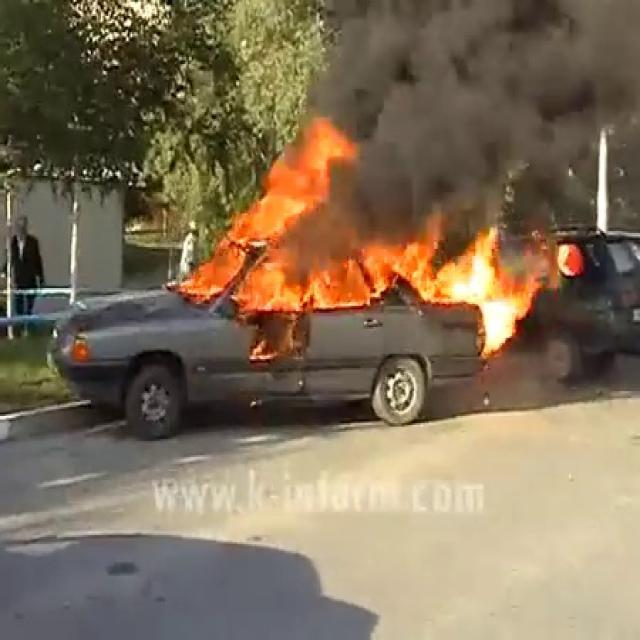Fire: (178, 118, 362, 316)
Smoke: (307, 1, 640, 207)
